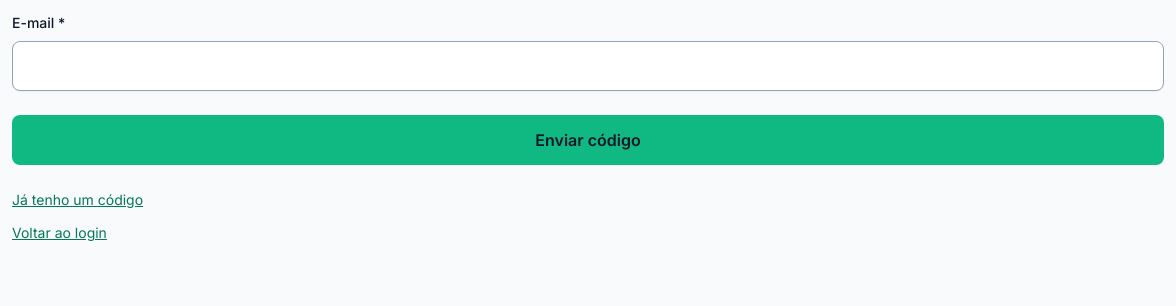
password recovery forms › preserves values after HTTP and unexpected failures (reset=false)
This screenshot has width=1176, height=306.
In the field labelled "E-mail *": (588,66) 12,41 -> 1164,91, type "test@example.com"
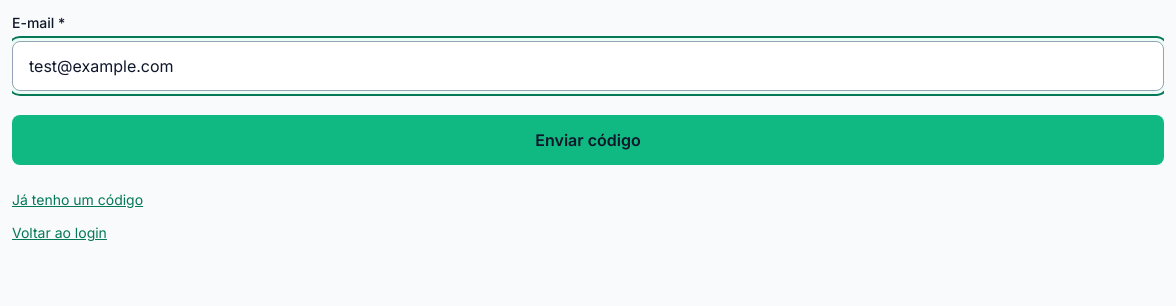
Click the button "Enviar código": (588,140) 12,115 -> 1164,165
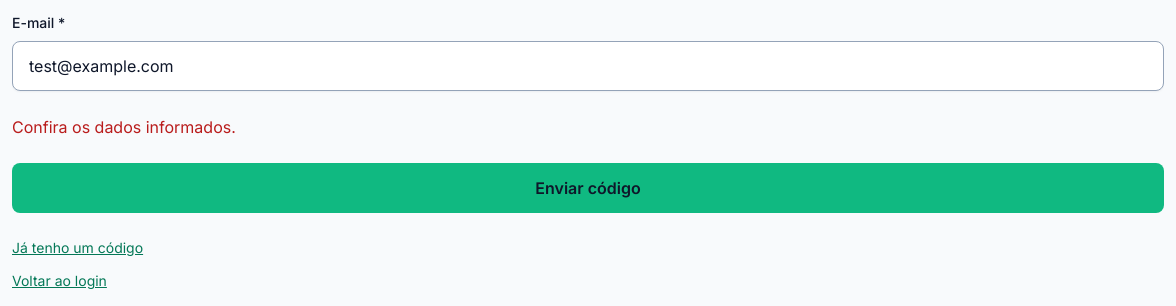
expect the message reads "Confira os dados informados.": met, box 12,117 -> 236,137
Click the button "Enviar código": (588,188) 12,163 -> 1164,213
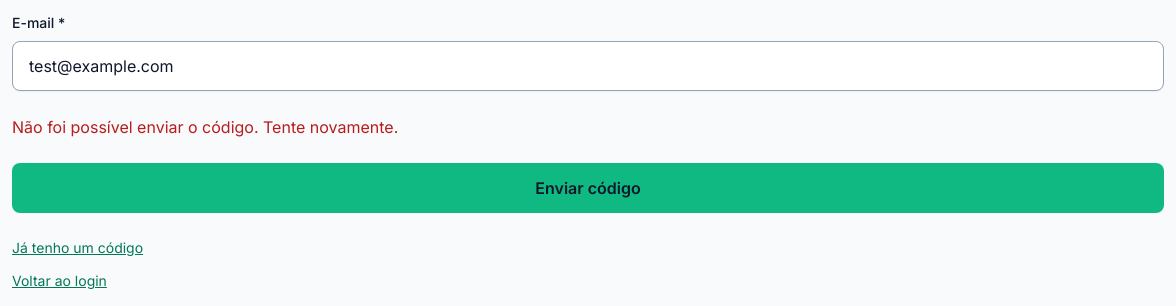
expect the message shows "Tente novamente.": met, box 12,117 -> 398,137
